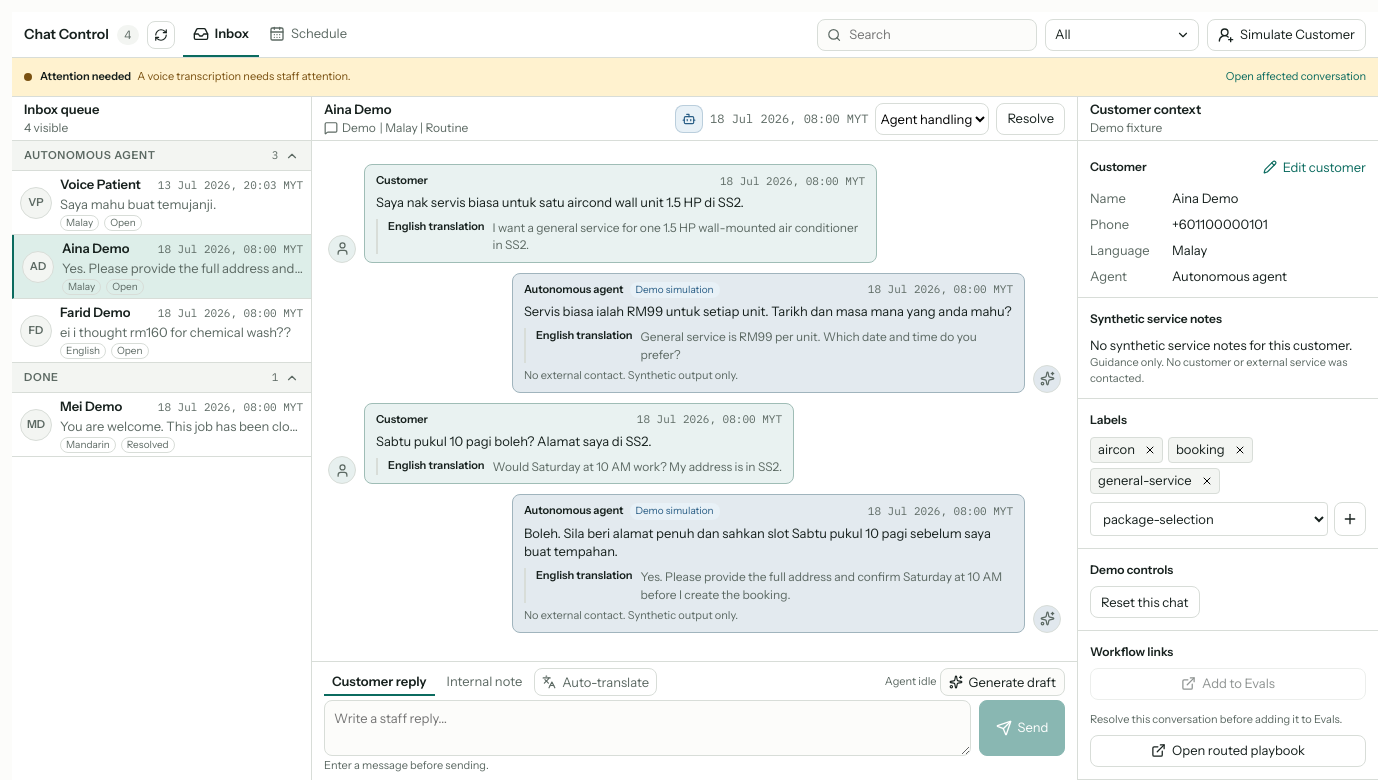
Test: Chat Control route › keeps failed voice recovery actions visible to staff
Click the button with aria-label "Open conversation with Voice Patient" at (162, 203), box [12,171,311,235]
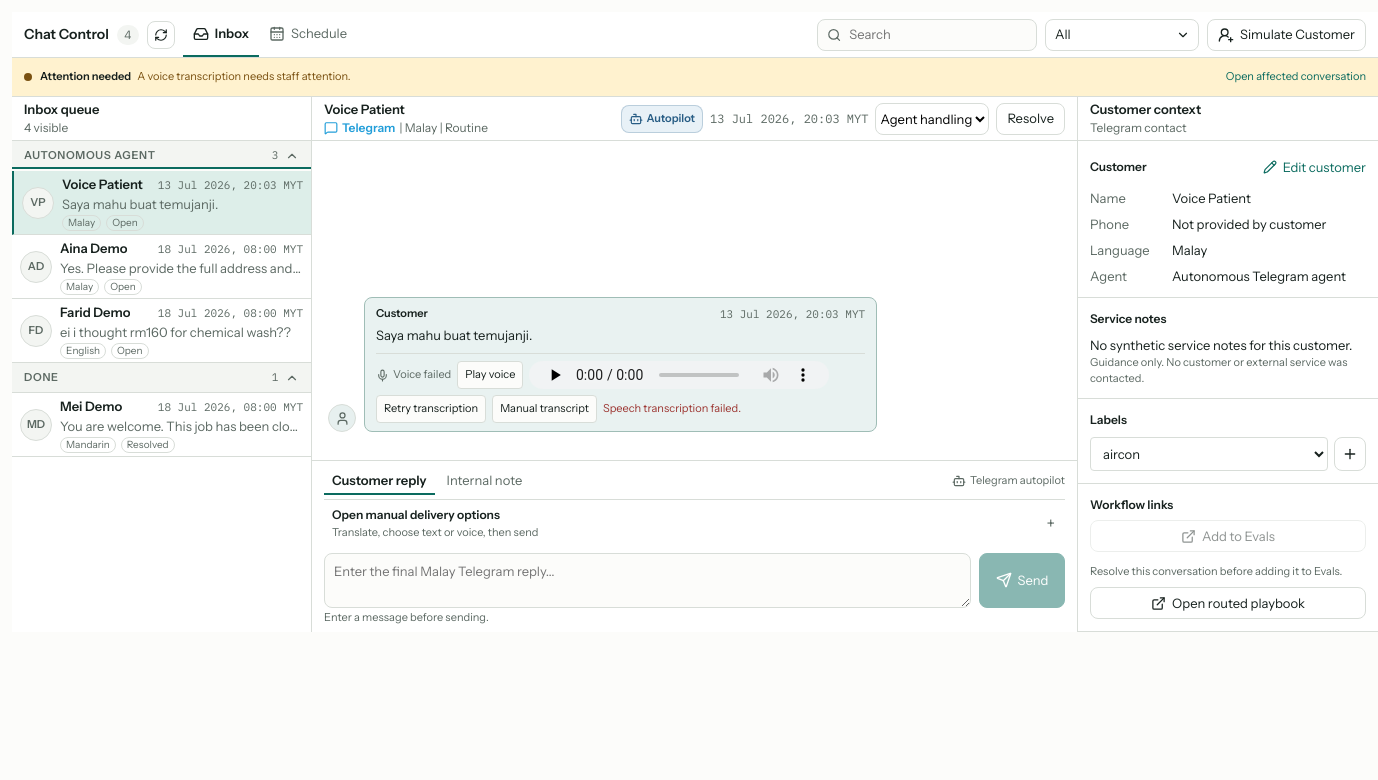
Expected: the button "Play voice" is shown, [457,361,523,389]
Expected: the button "Retry transcription" is shown, [376,395,486,423]
Expected: the button "Manual transcript" is shown, [492,395,597,423]
